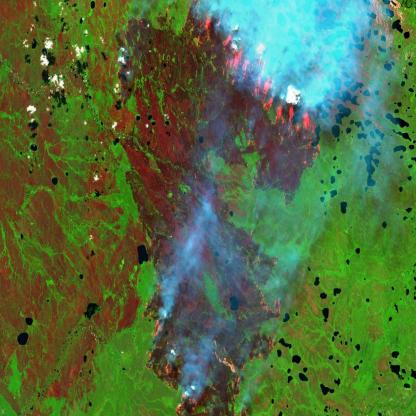fire: (170, 0, 334, 186), (136, 272, 294, 416)
